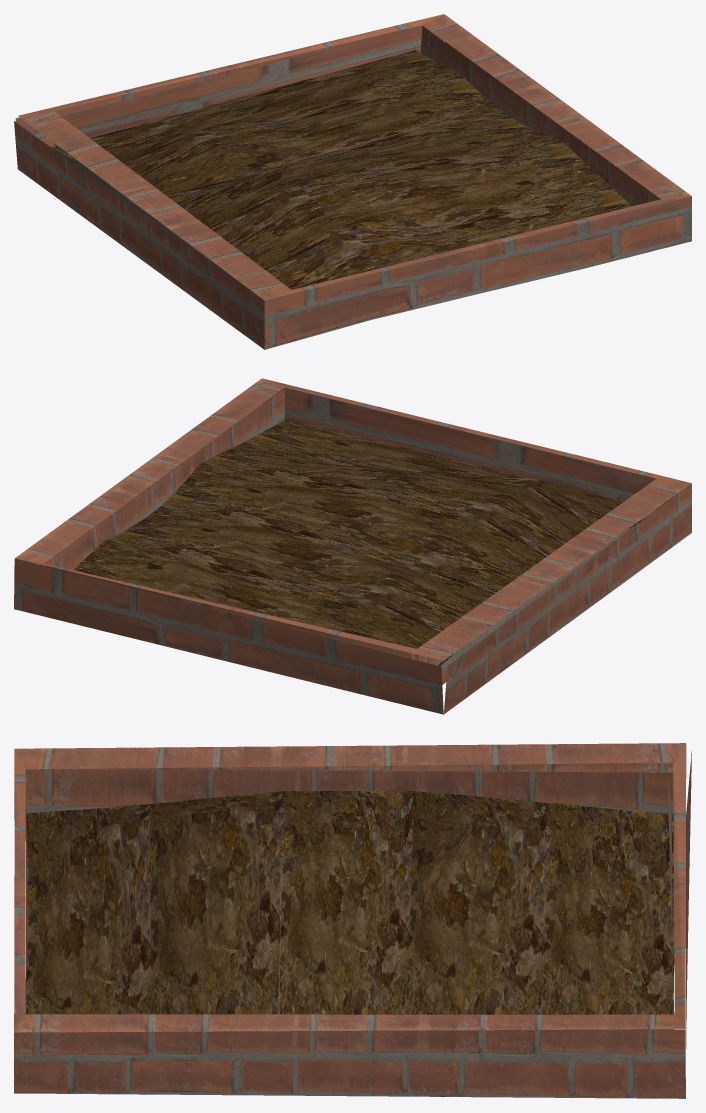
File: squareplanterbox.fbx
3 renders of one model, top to bottom at view 1: azimuth 30°, elevation 25°; view 2: azimuth 150°, elevation 25°; view 3: azimuth 270°, elevation 25°, orthographic. The views are drawn at different scales.
Visible parts, largest first — view 1: plantpot; view 2: plantpot; view 3: plantpot.
Part boxes in pixels (x1,y1,x2,y2): plantpot: (14,14,691,349); plantpot: (14,378,691,714); plantpot: (14,743,691,1098).
Bounding box in the file's own units: 202 × 26.43 × 202.
